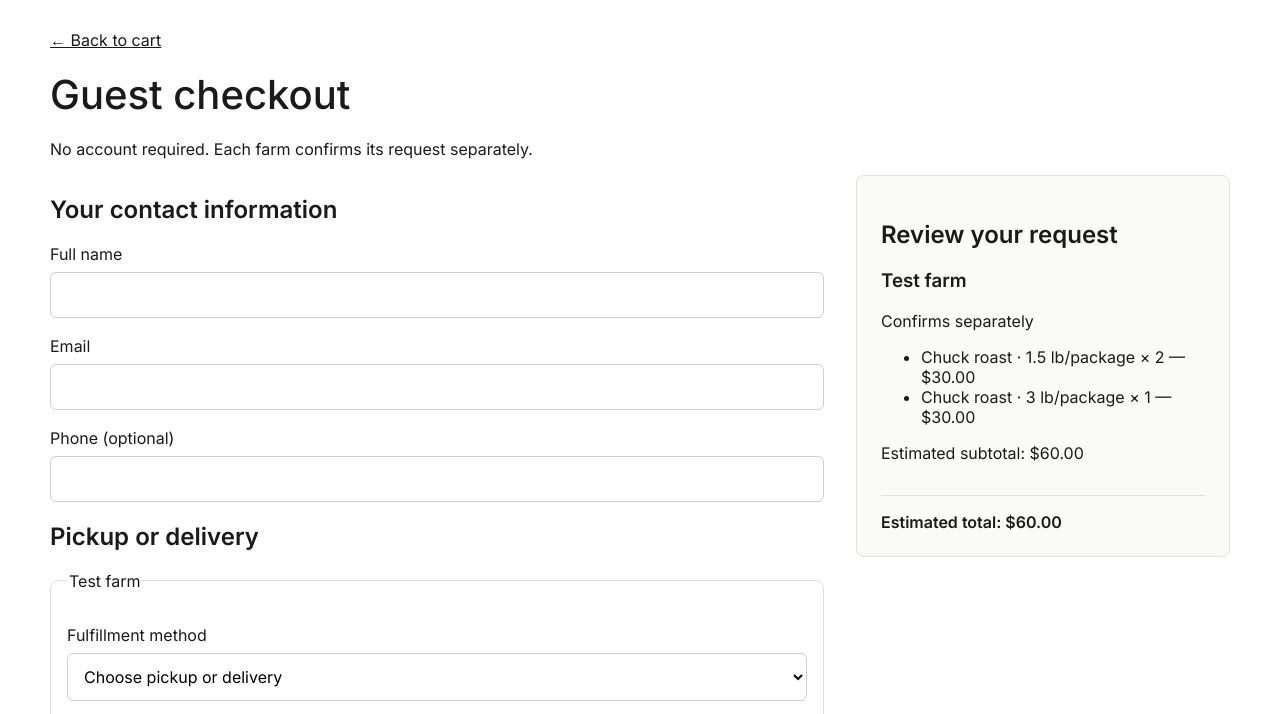
Test: shows both selected sizes and the lowest matching delivery fee through confirmation
Type "Test shopper" into the field labelled "Full name".
click(437, 295); type("Test shopper")  # box [50, 272, 824, 318]
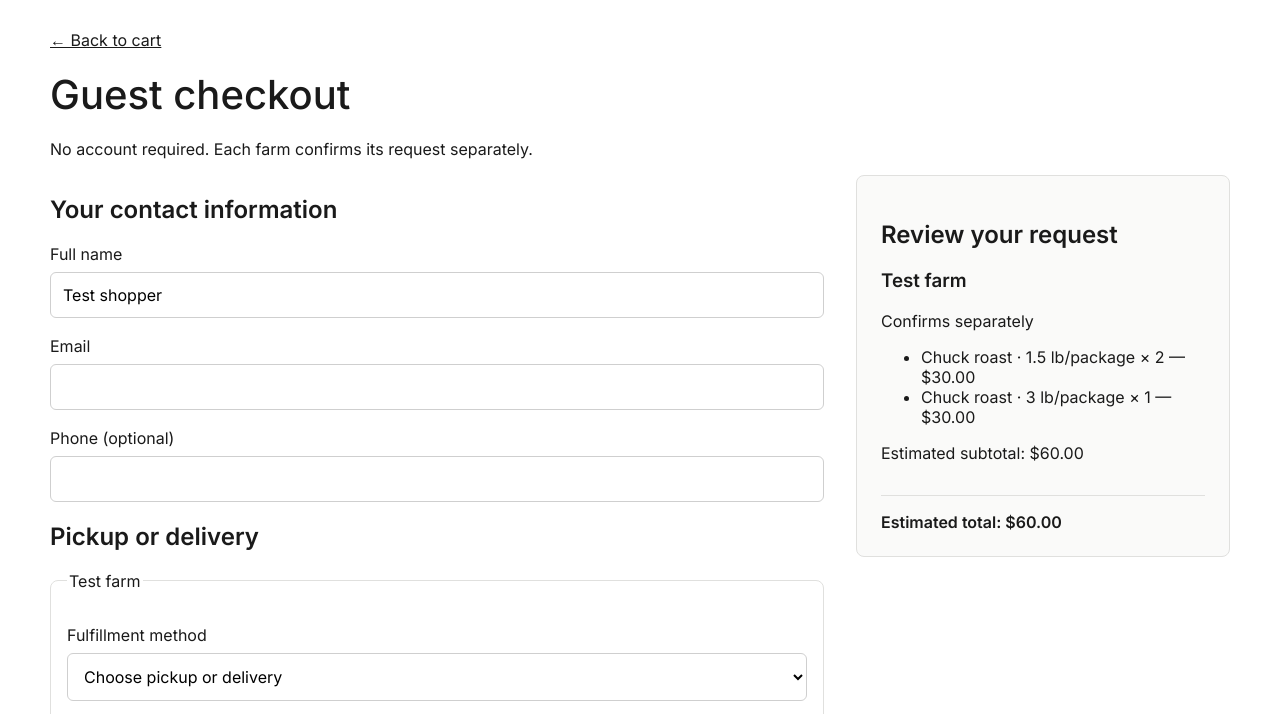
Type "test@example.com" into the field labelled "Email".
click(437, 387); type("test@example.com")  # box [50, 364, 824, 410]
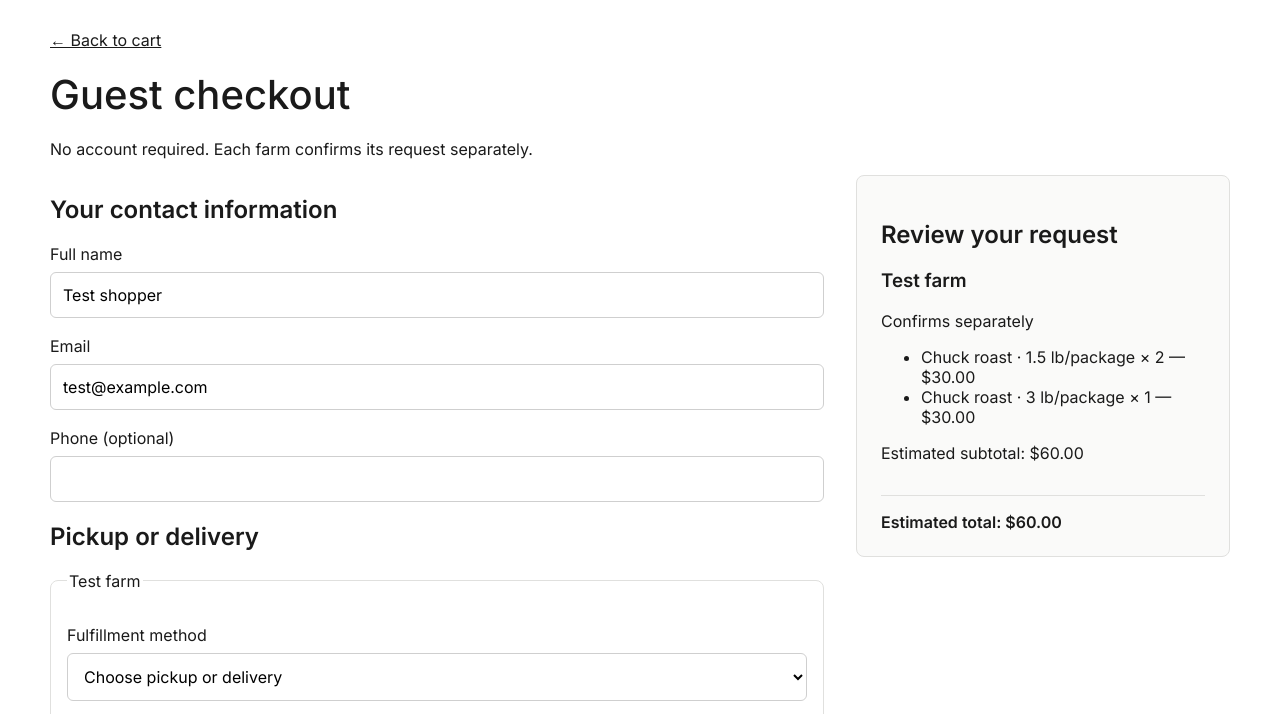
Select "Delivery" in the dropdown labelled "Fulfillment method" at (437, 677), box [67, 653, 807, 701]
(page scrolled)
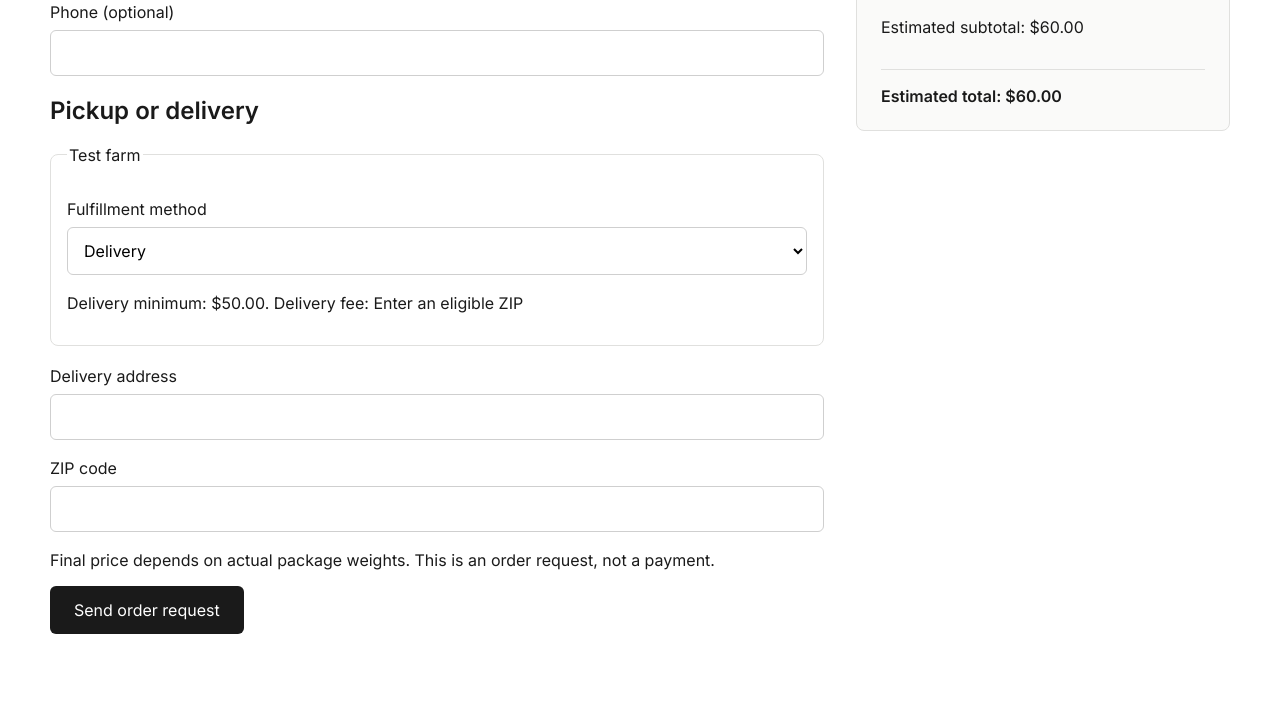
Type "123 Test Street" into the field labelled "Delivery address".
click(437, 417); type("123 Test Street")  # box [50, 394, 824, 440]
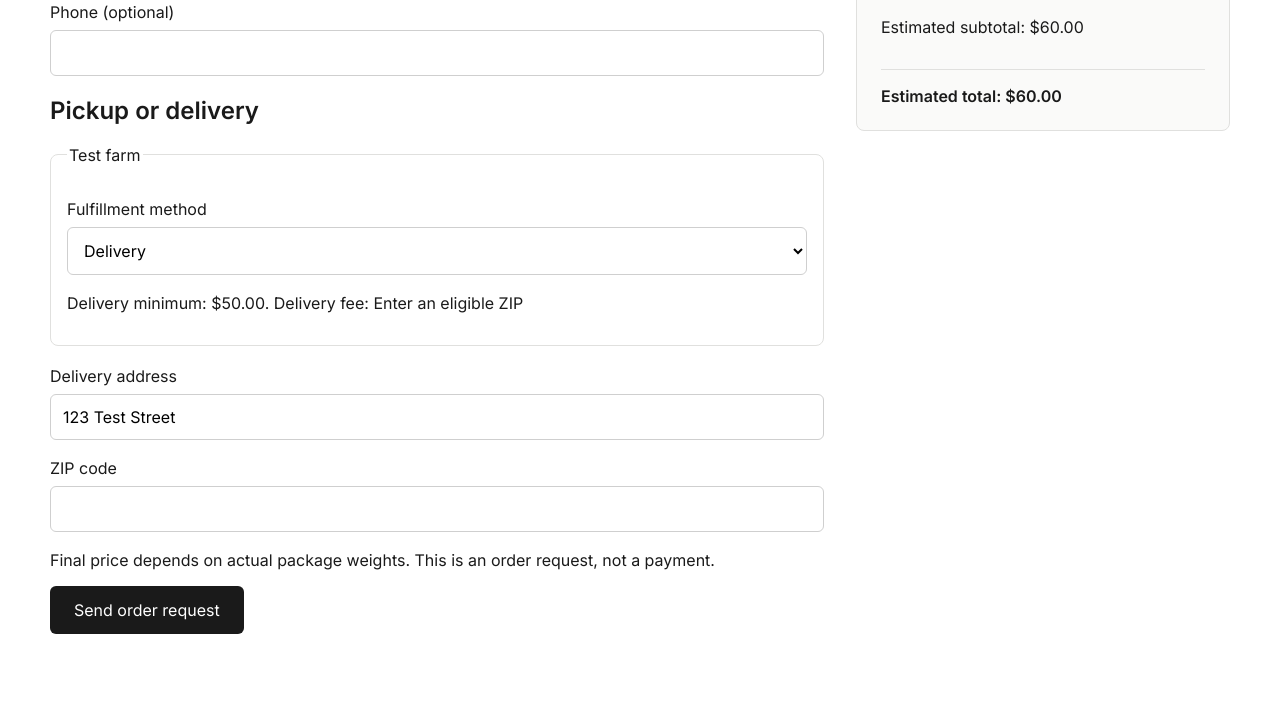
Type "98105" into the field labelled "ZIP code".
click(437, 509); type("98105")  # box [50, 486, 824, 532]
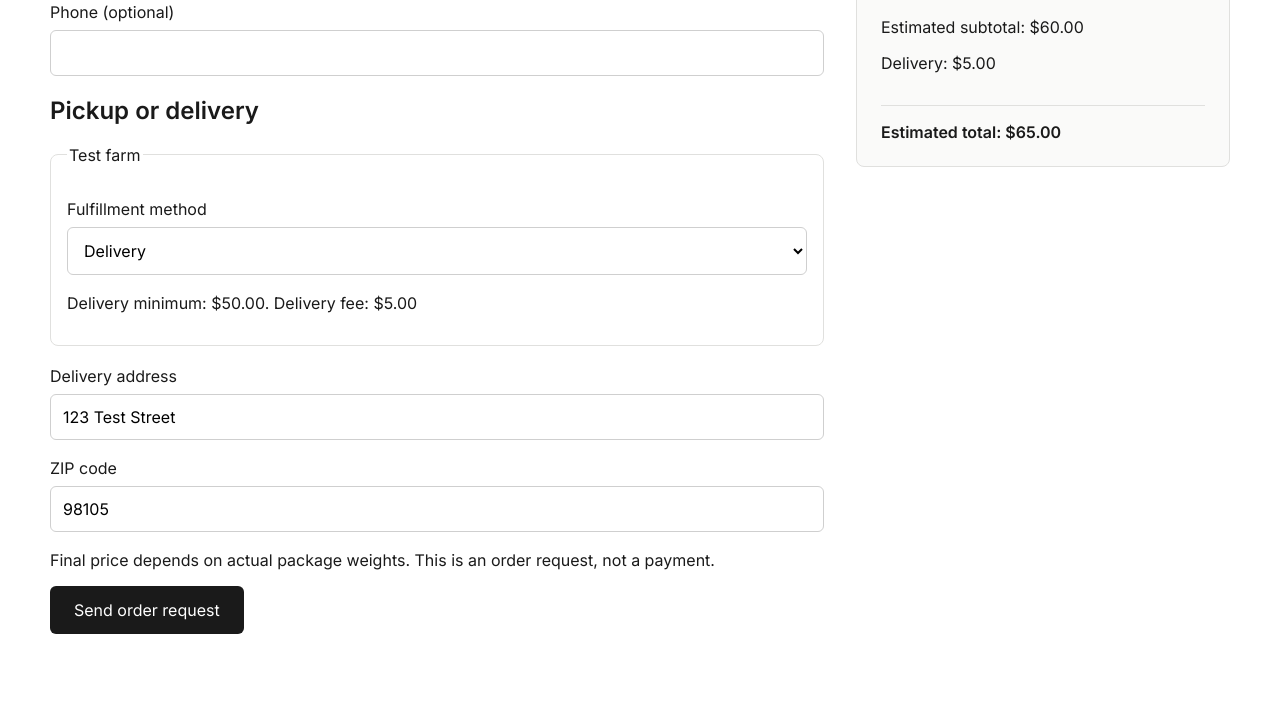
Expected: the text "Estimated total: $65.00" is shown, [881, 122, 1061, 142]
Click the button "Send order request".
click(147, 610)  # box [50, 586, 244, 634]
(page scrolled)
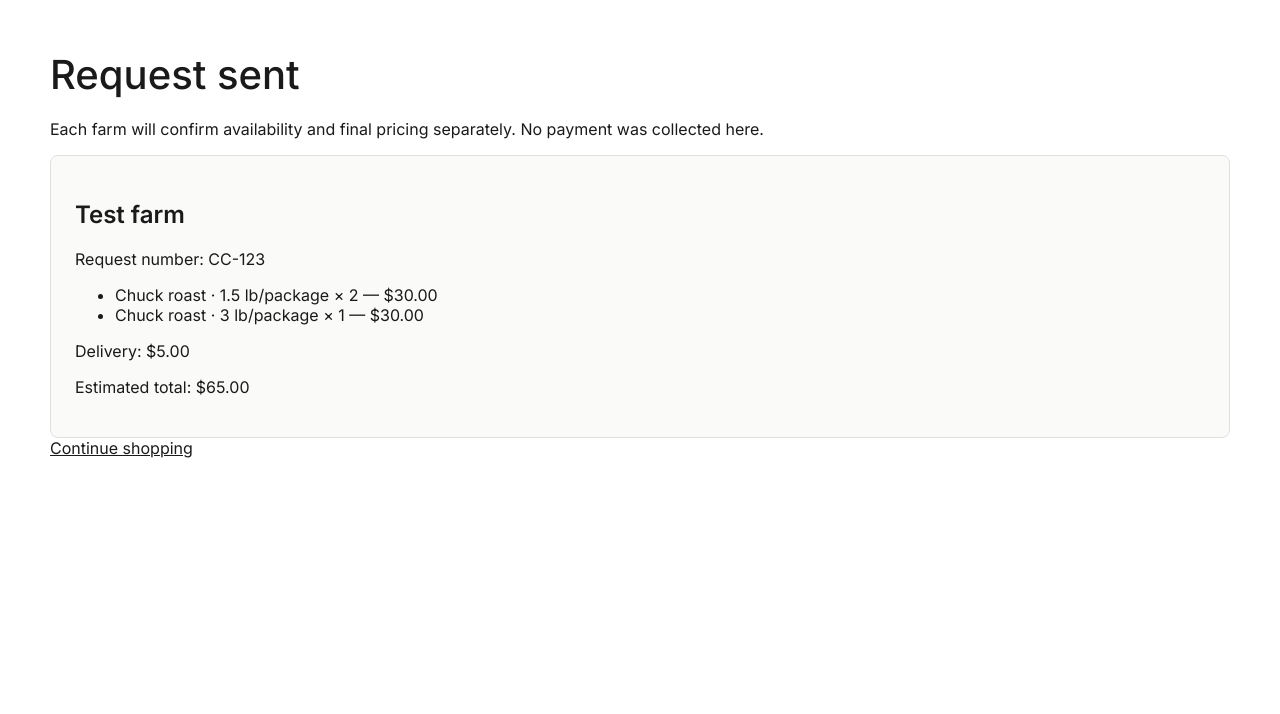
Expected: the text "Estimated total: $65.00" is shown, [75, 377, 250, 397]
Expected: the heading "Request sent" is shown, [50, 50, 300, 99]
Expected: the text "Request number: CC-123" is shown, [75, 249, 265, 269]
